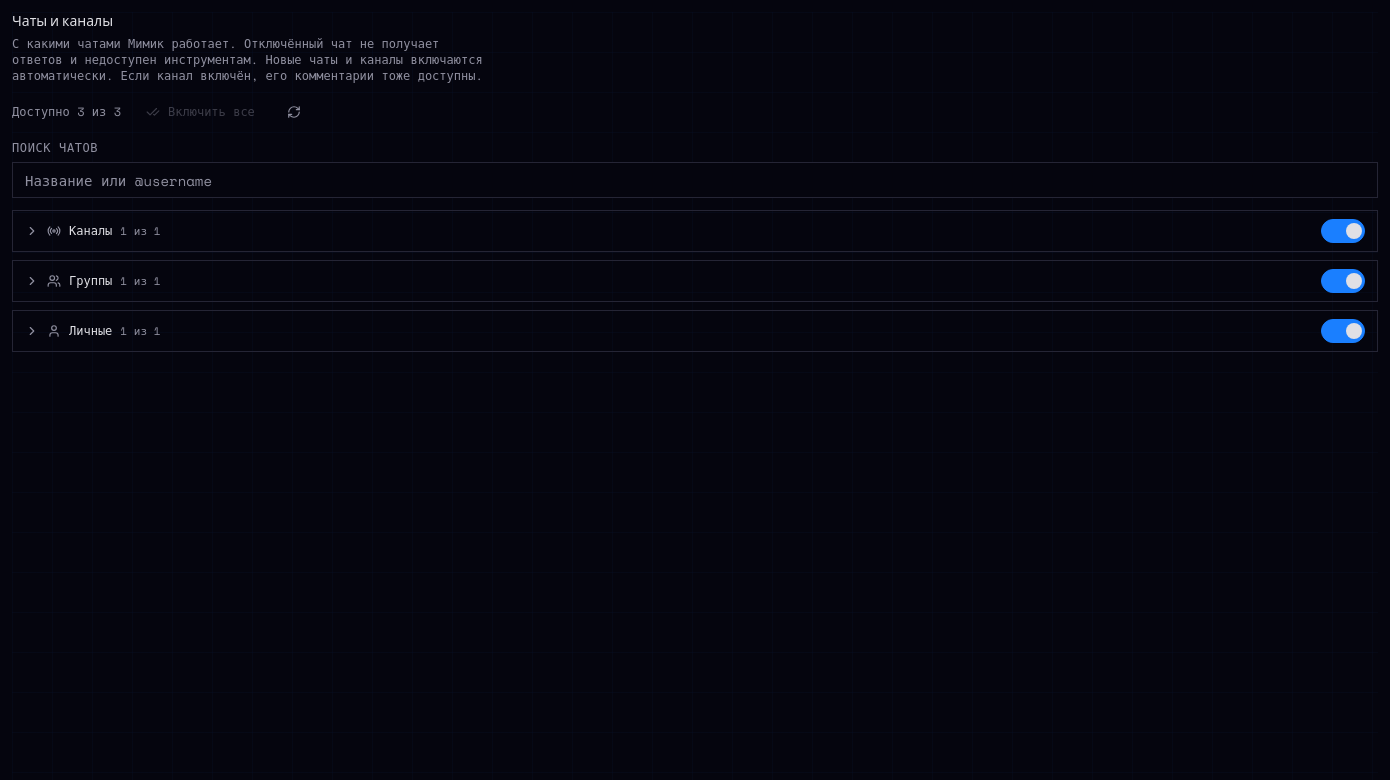
ChatsSettings › счётчик, группы свёрнуты, раскрытие показывает чаты
This screenshot has width=1390, height=780.
Expected: the text "Доступно 3 из 3" is shown, [12, 104, 121, 120]
Expected: the switch labelled "Новости дня" is not shown
Click the button with test id "chat-group-channel" at (91,230), box [25, 223, 1309, 239]
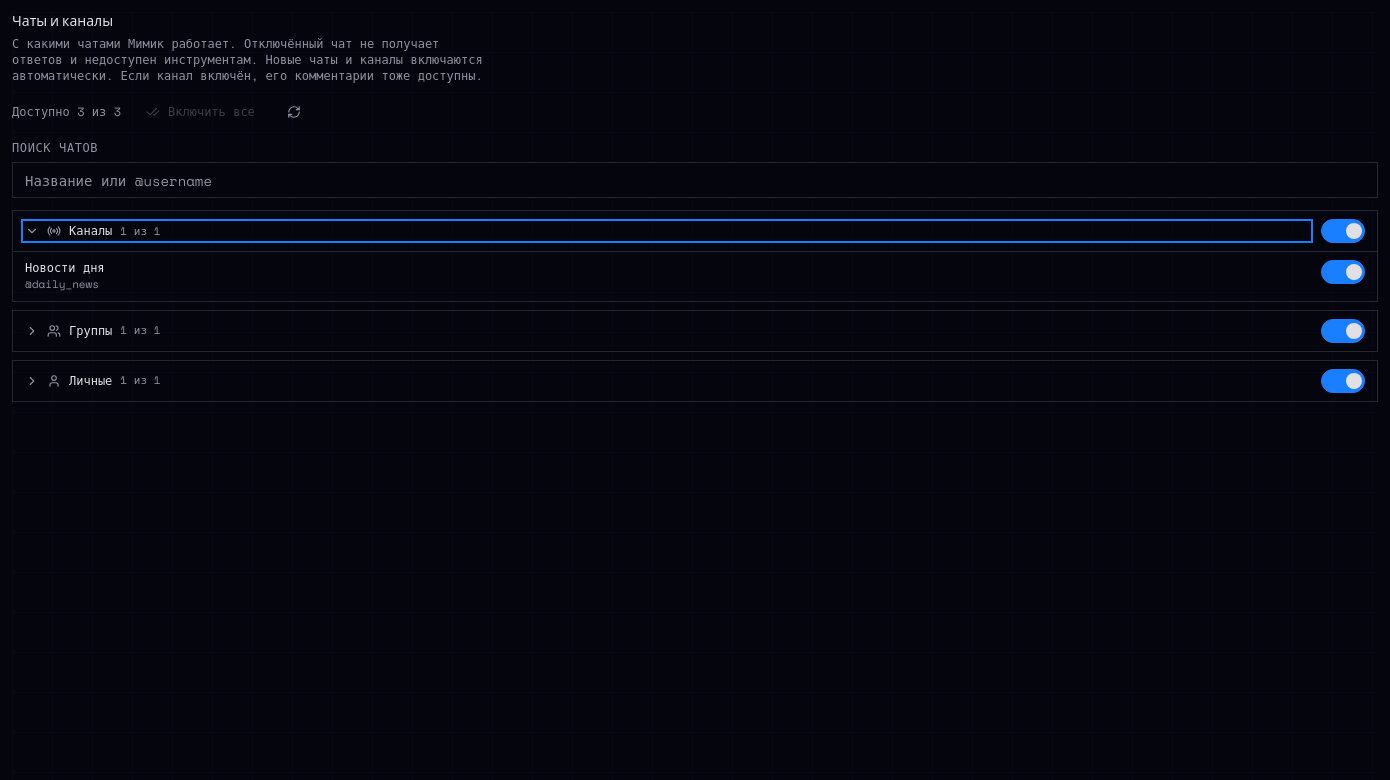
Now the switch named "Новости дня" is shown, box [1321, 260, 1365, 284]
